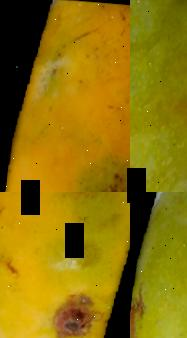PartiallyRipe: (0, 192, 130, 338)
Ripe: (0, 0, 130, 192)
Unripe: (130, 0, 187, 192), (130, 192, 187, 338)
